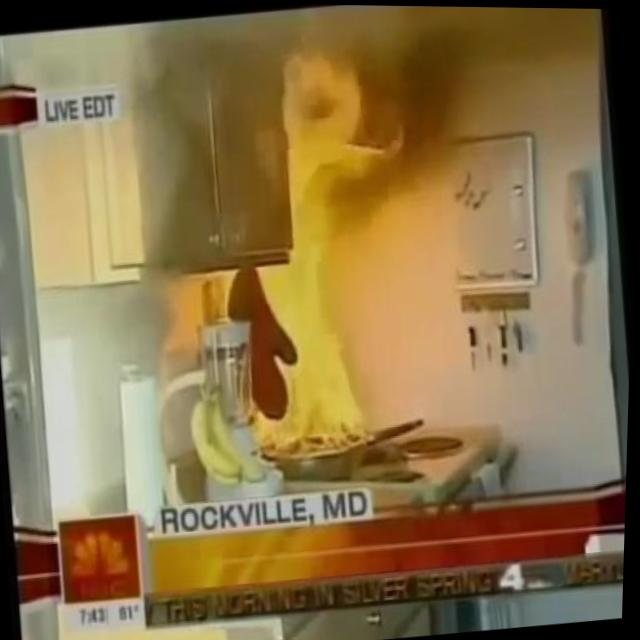fire: (213, 45, 429, 470)
